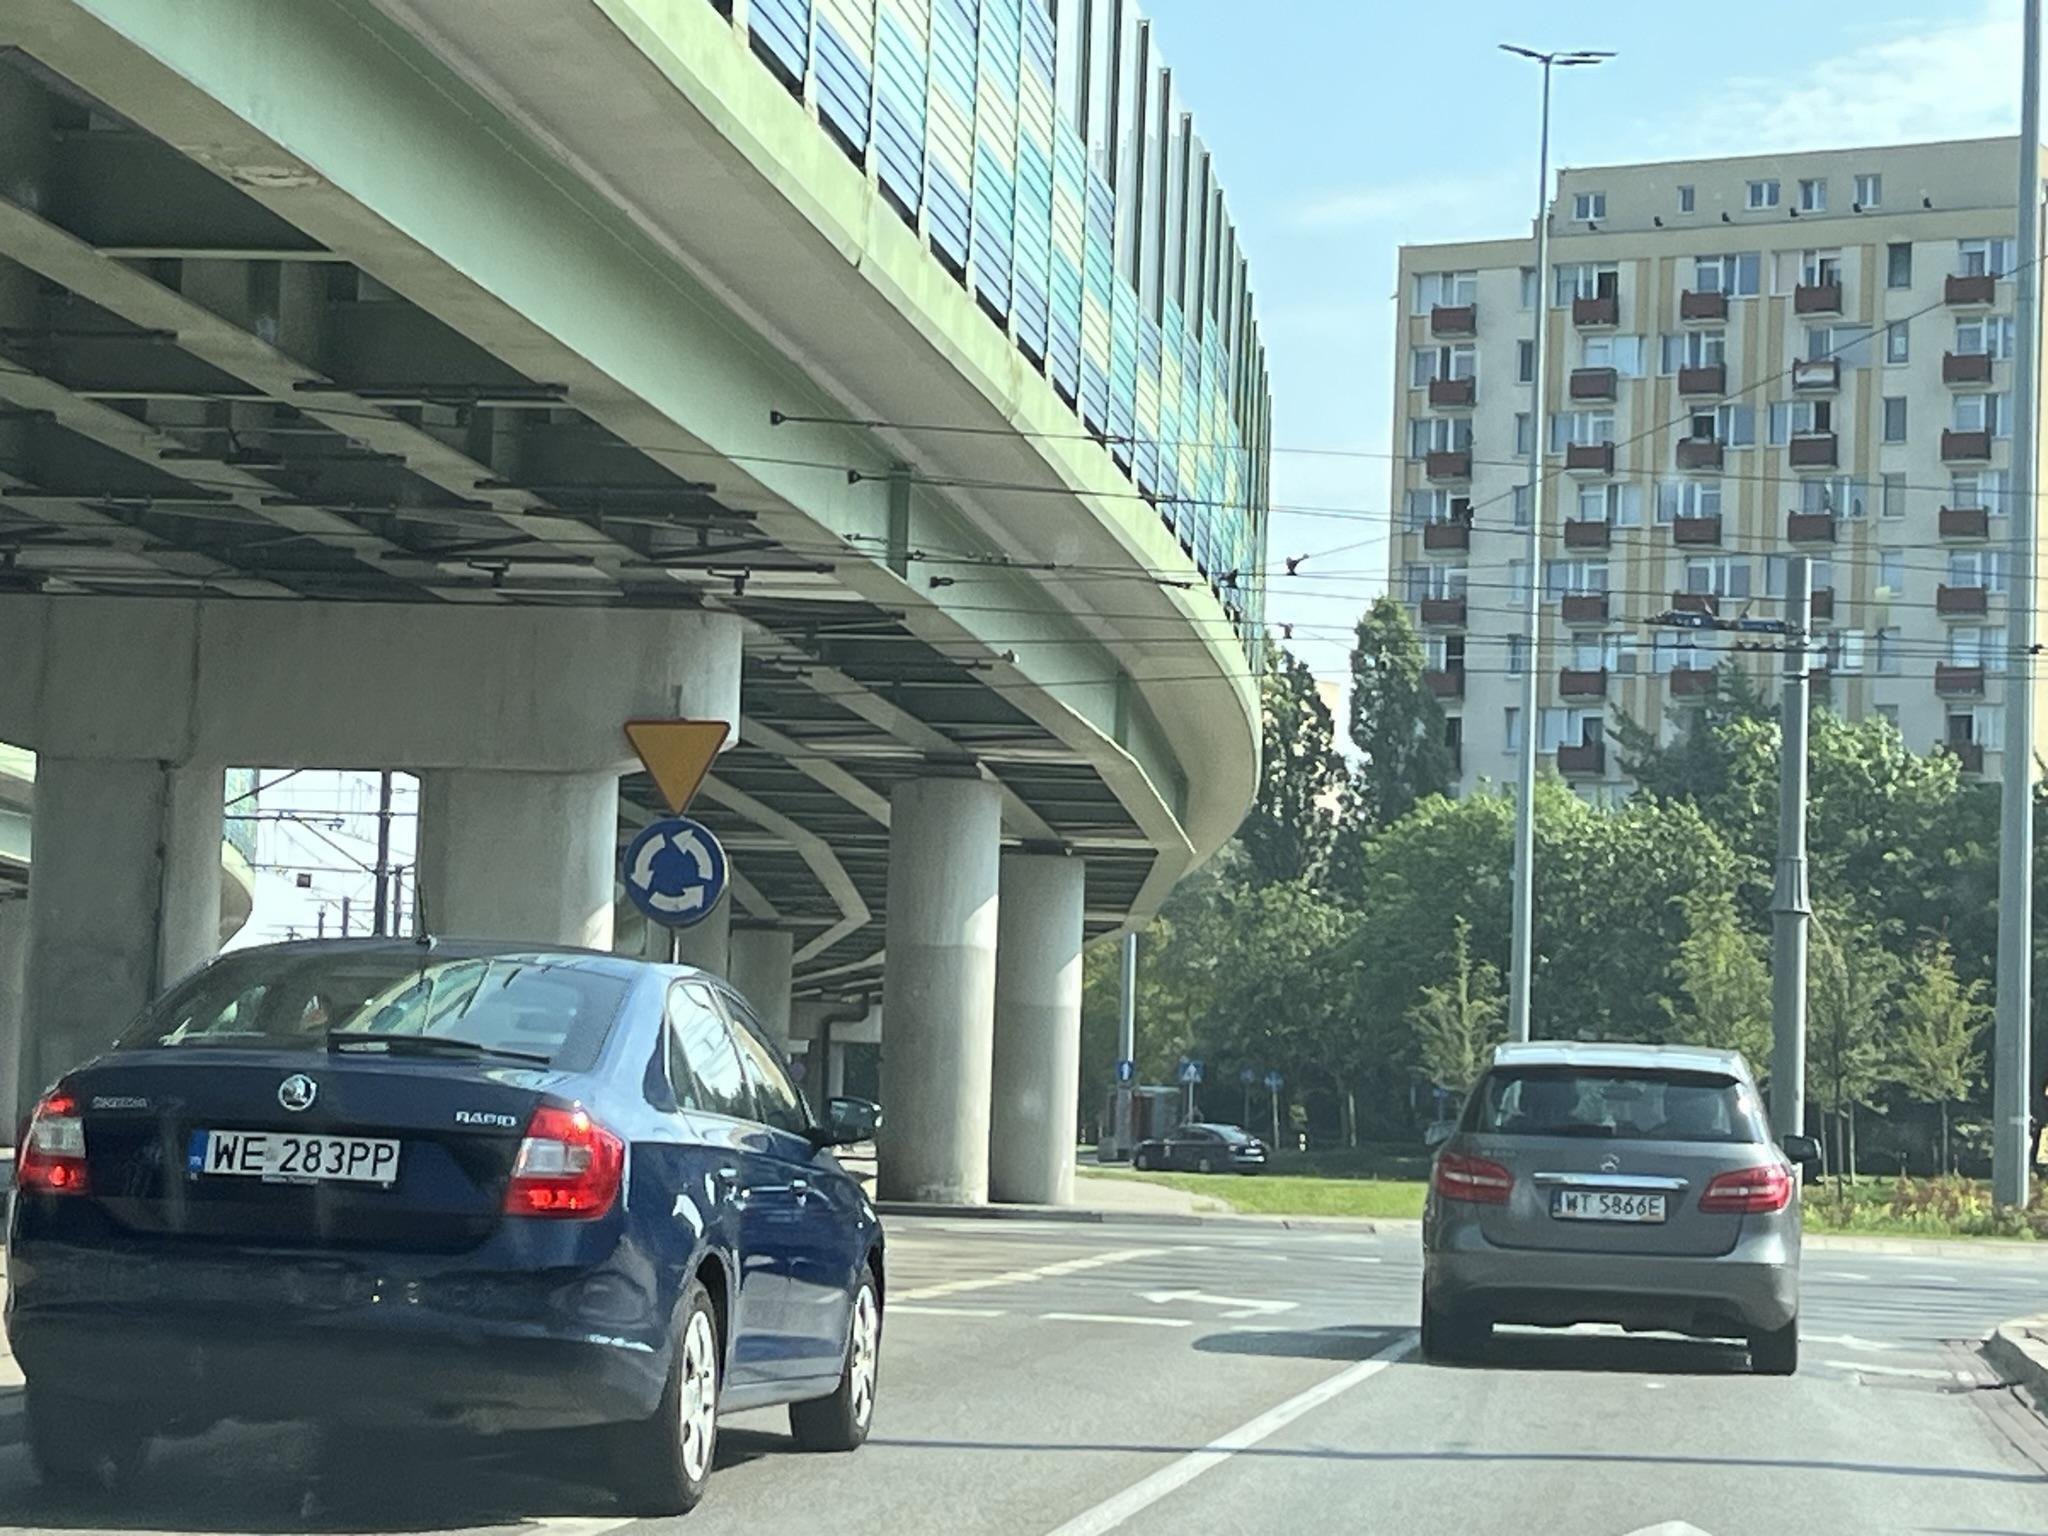mandatory: (622, 816, 727, 926), (622, 720, 734, 815)
